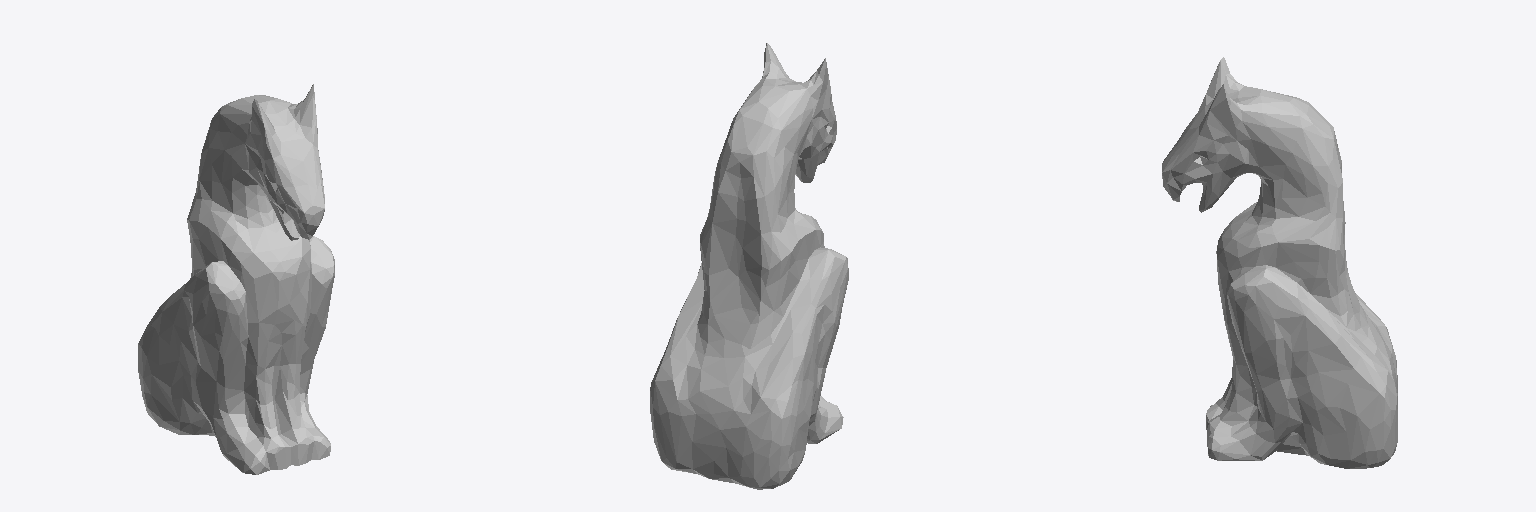
The model's file is statue.obj.
3 views of the same model, side by side, from view 1: azimuth 30°, elevation 25°; view 2: azimuth 150°, elevation 25°; view 3: azimuth 270°, elevation 25° (orthographic).
Parts seen in each view (by area): view 1: staue1; view 2: staue1; view 3: staue1.
Part boxes in pixels (x1,y1,x2,y2): staue1: (138,84,334,474); staue1: (650,43,848,489); staue1: (1162,57,1397,468).
Bounding box in the file's own units: 2.11 × 5.45 × 3.15.